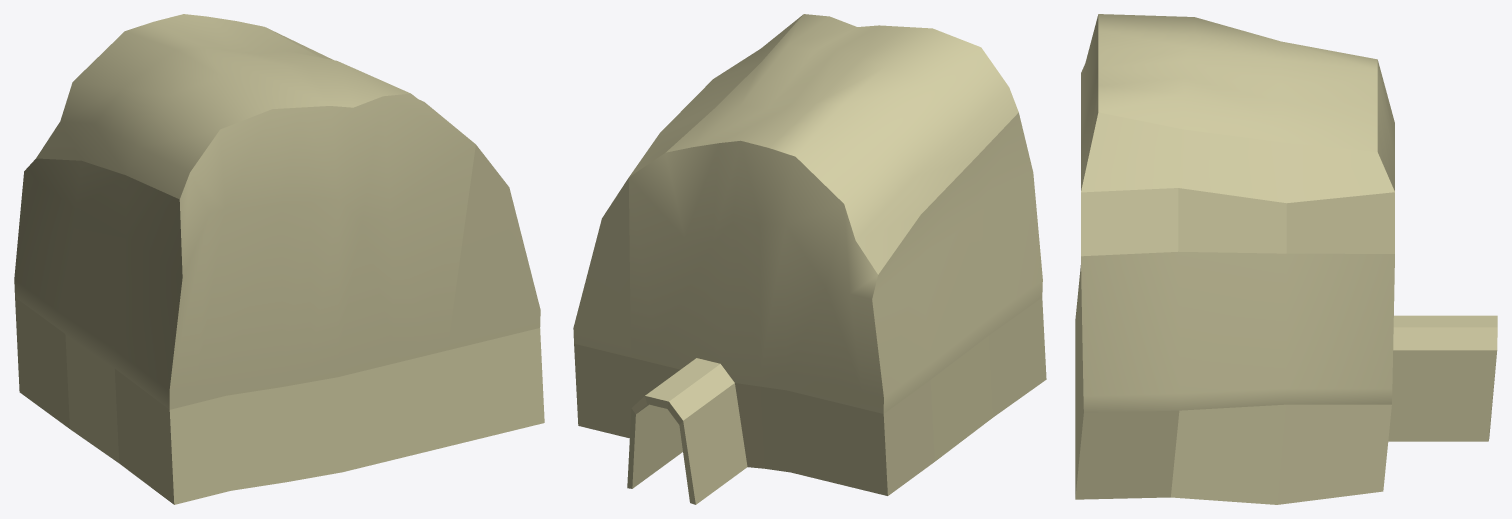
Rendered from door4.fbx.
3 views of the same model, side by side, from view 1: azimuth 30°, elevation 25°; view 2: azimuth 150°, elevation 25°; view 3: azimuth 270°, elevation 25° (orthographic). The views are drawn at different scales.
Visible parts, largest first — view 1: pasted__pCube3; view 2: pasted__pCube3; view 3: pasted__pCube3.
Part boxes in pixels (box(x1,y1,x2,y2)): pasted__pCube3: box(14, 14, 544, 504); pasted__pCube3: box(573, 14, 1046, 504); pasted__pCube3: box(1075, 14, 1497, 504).
Size of the model in its own units: 16.26 by 15.66 by 16.94.
